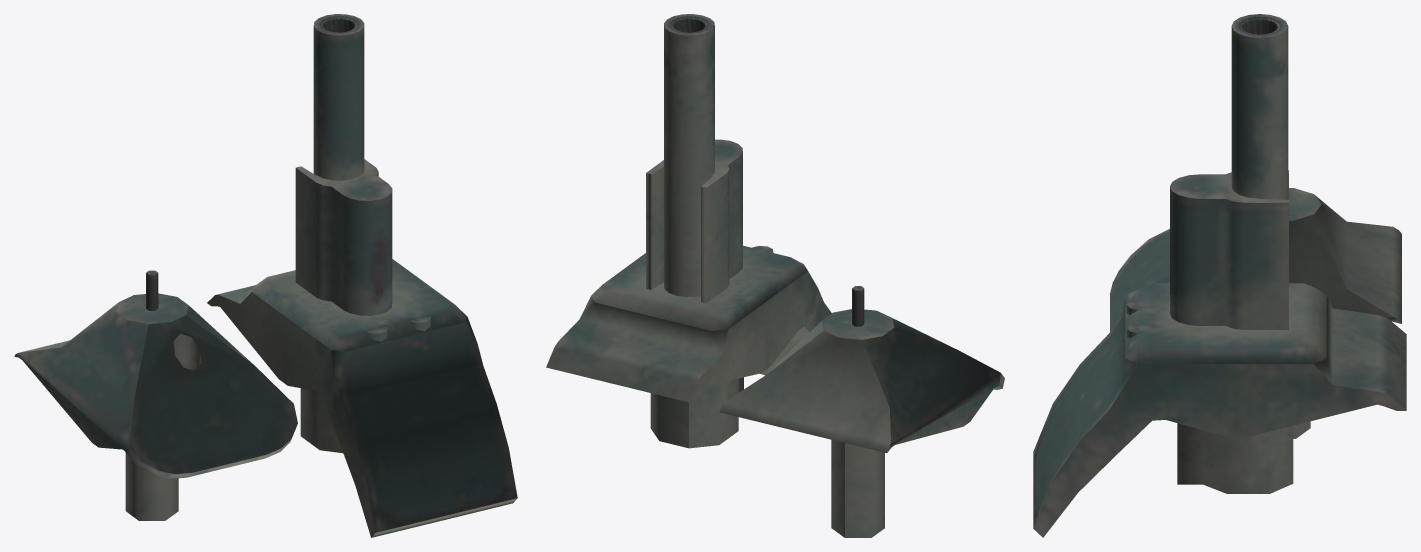
File: Gun_03.glb
3 views of the same model, side by side, from view 1: azimuth 30°, elevation 25°; view 2: azimuth 150°, elevation 25°; view 3: azimuth 270°, elevation 25° (orthographic). The views are drawn at different scales.
Visible parts, largest first — view 1: set_0_group_0; view 2: set_0_group_0; view 3: set_0_group_0.
Boxes of the visible parts, x1,y1,x2,y2 form: set_0_group_0: (14, 14, 517, 537); set_0_group_0: (546, 14, 1004, 537); set_0_group_0: (1033, 14, 1406, 537).
Size of the model in its own units: 0.5584 by 0.713 by 0.4845.
1 material, 1 textured.
